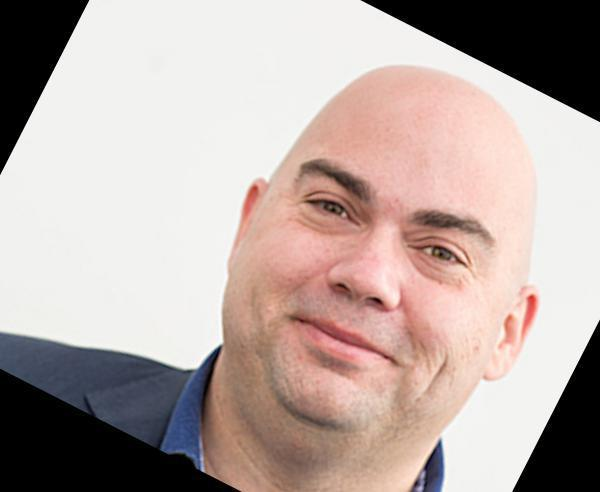Sober: (280, 110, 498, 418)
